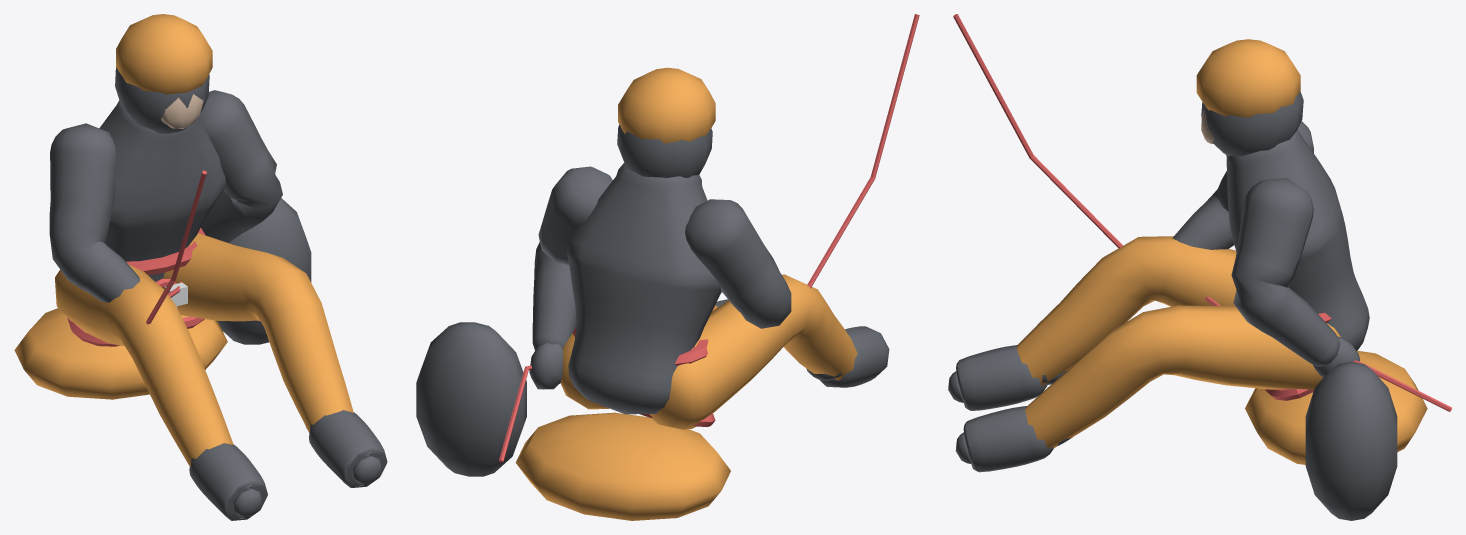
Rendered from mountaineering-and-summit-expedition-seated-belayer-d4a27496__18791.glb.
The picture shows the model from 3 angles, left to right: view 1: azimuth 30°, elevation 25°; view 2: azimuth 150°, elevation 25°; view 3: azimuth 270°, elevation 25°; orthographic projection.
Parts seen in each view (by area): view 1: seated-belayer; view 2: seated-belayer; view 3: seated-belayer.
Part boxes in pixels (<box>): seated-belayer: <box>14,14,387,520</box>; seated-belayer: <box>416,14,919,520</box>; seated-belayer: <box>948,14,1451,520</box>.
Bounding box in the file's own units: 0.9455 × 1.17 × 1.32.
